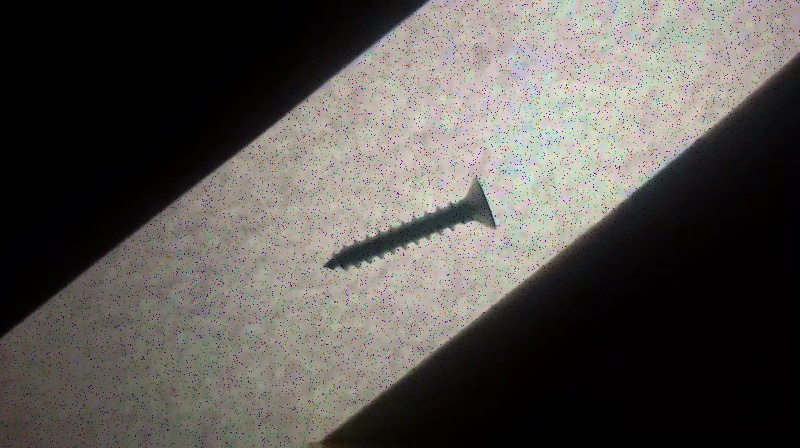S001: (315, 173, 498, 273)
